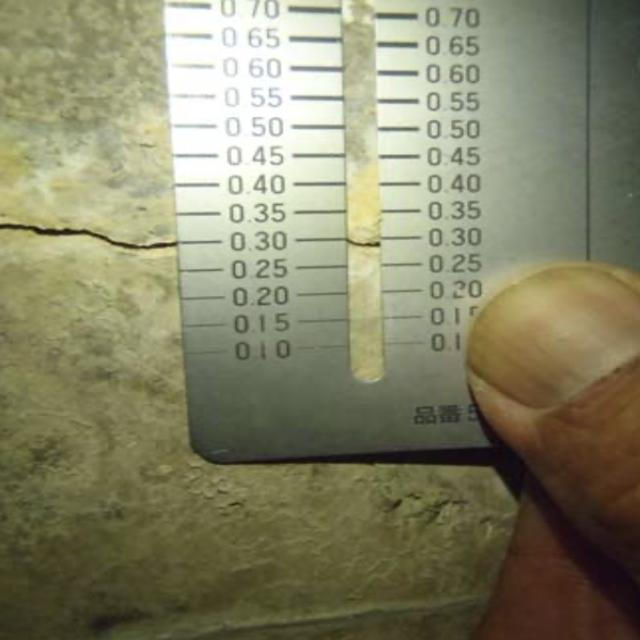crack: (6, 200, 187, 260), (340, 219, 383, 270)
